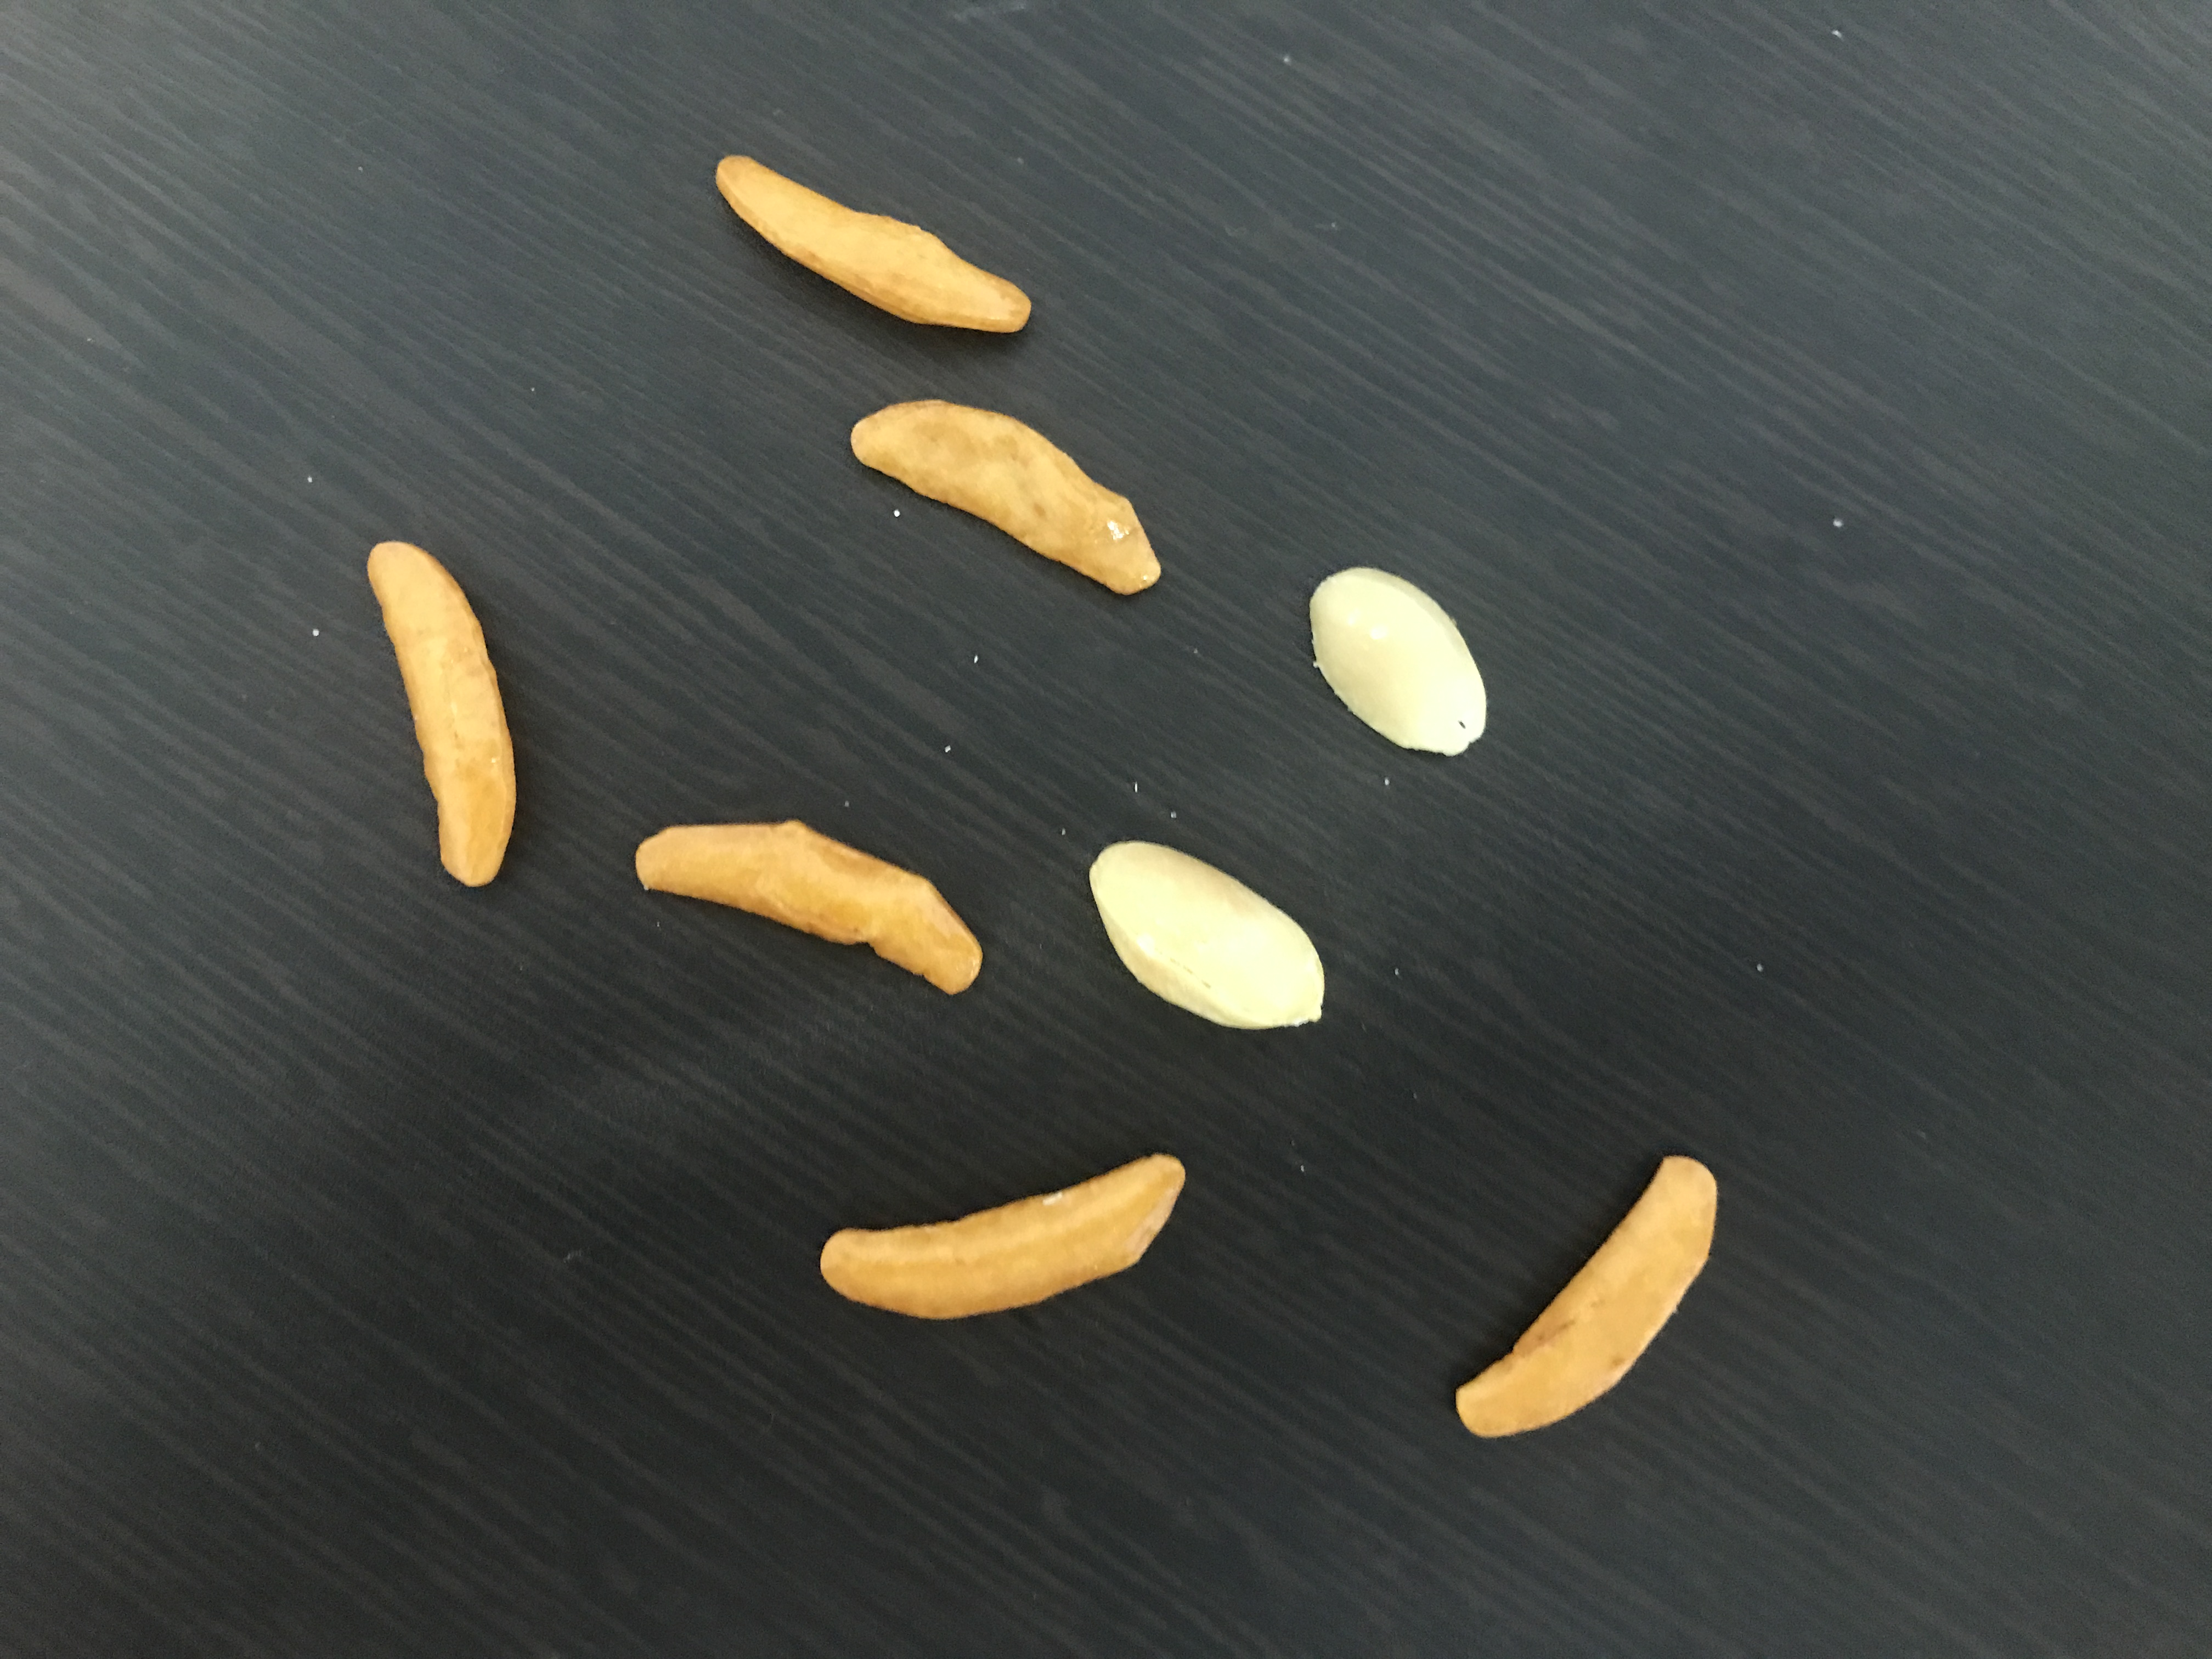peanut: (1083, 823, 1332, 1042), (1296, 556, 1510, 762)
